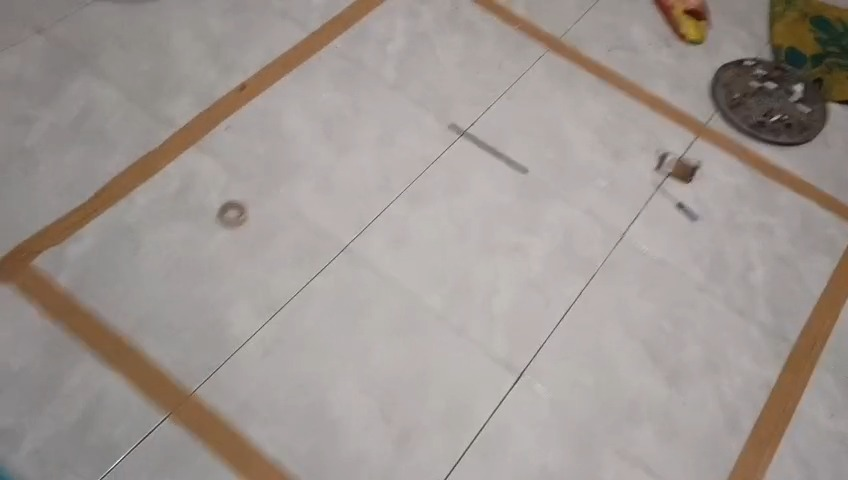floor marking: (0, 0, 381, 479), (476, 0, 847, 221), (729, 247, 847, 479)
